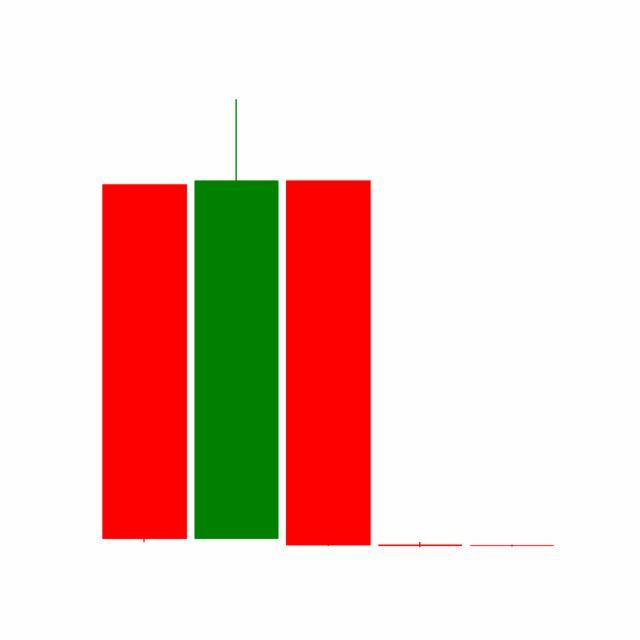Spinning Top: (466, 545, 559, 548)
